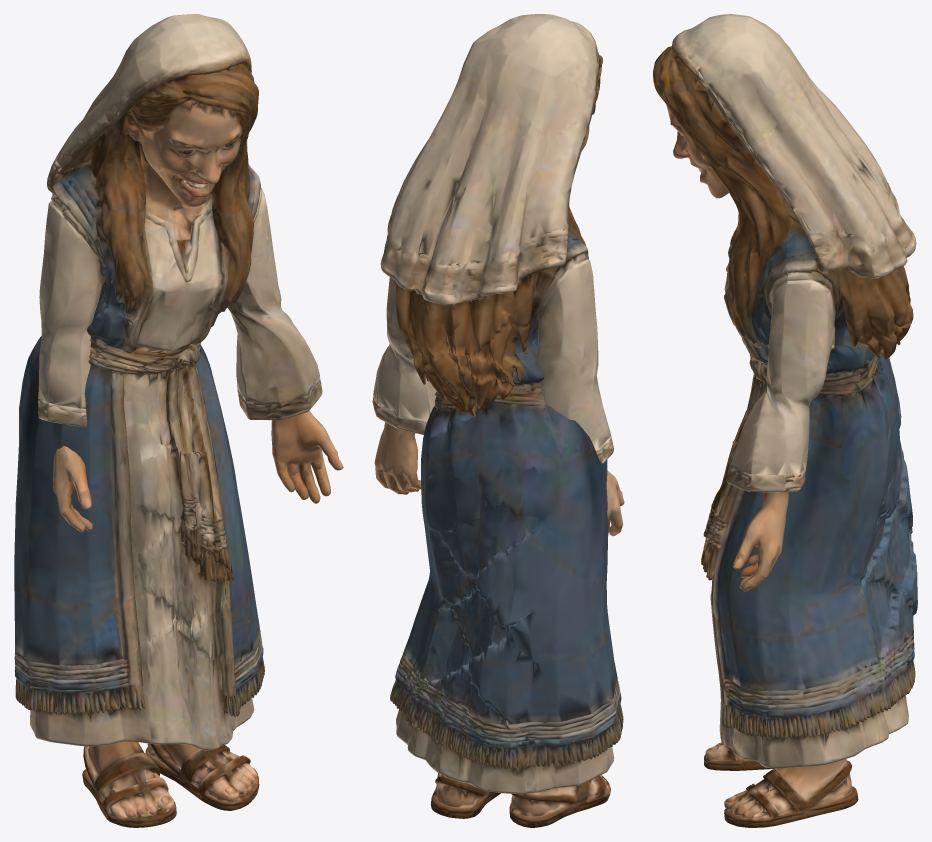
File: city_girl_game.glb
3 renders of one model, left to right at view 1: azimuth 30°, elevation 25°; view 2: azimuth 150°, elevation 25°; view 3: azimuth 270°, elevation 25°, orthographic. The views are drawn at different scales.
Parts seen in each view (by area): view 1: tripo_node_c86cab52-ee5c-423a-968f-ee1951dfda18; view 2: tripo_node_c86cab52-ee5c-423a-968f-ee1951dfda18; view 3: tripo_node_c86cab52-ee5c-423a-968f-ee1951dfda18.
Part boxes in pixels (bbox=[...]): tripo_node_c86cab52-ee5c-423a-968f-ee1951dfda18: bbox=[14, 14, 343, 827]; tripo_node_c86cab52-ee5c-423a-968f-ee1951dfda18: bbox=[372, 14, 624, 827]; tripo_node_c86cab52-ee5c-423a-968f-ee1951dfda18: bbox=[653, 14, 917, 827].
Size of the model in its own units: 0.3571 by 0.9795 by 0.3024.
Materials: 1 (1 with a texture image).
